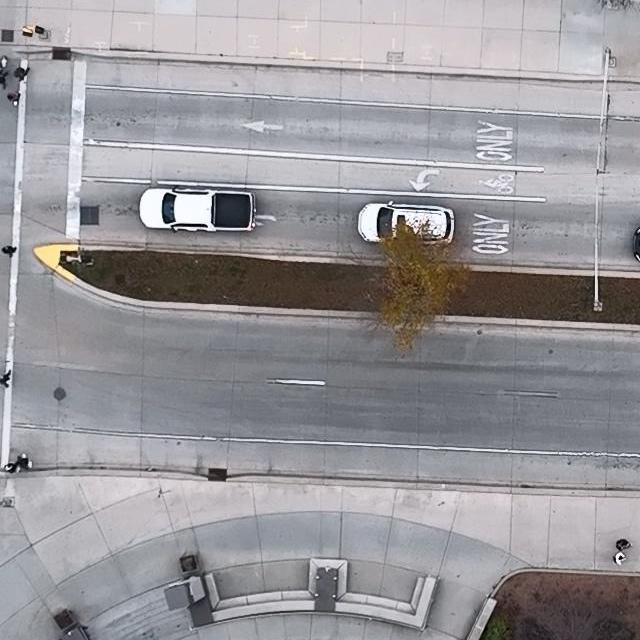car: (138, 185, 256, 234), (358, 199, 455, 245)
